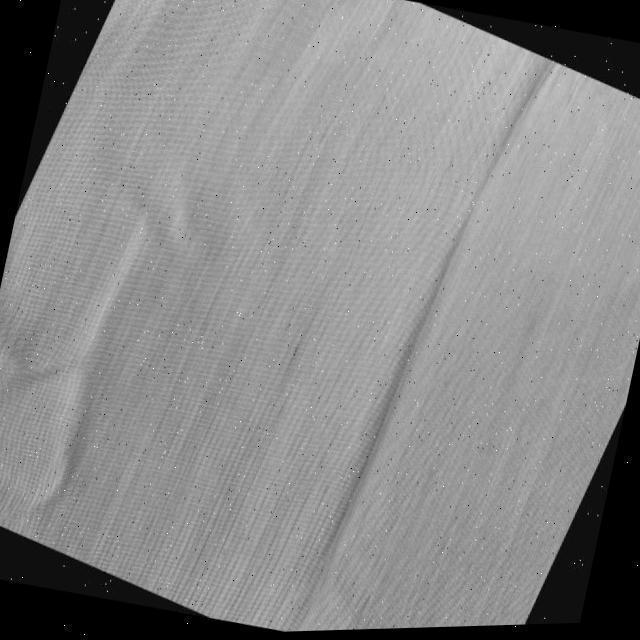broken_yarn: (328, 66, 559, 554)
